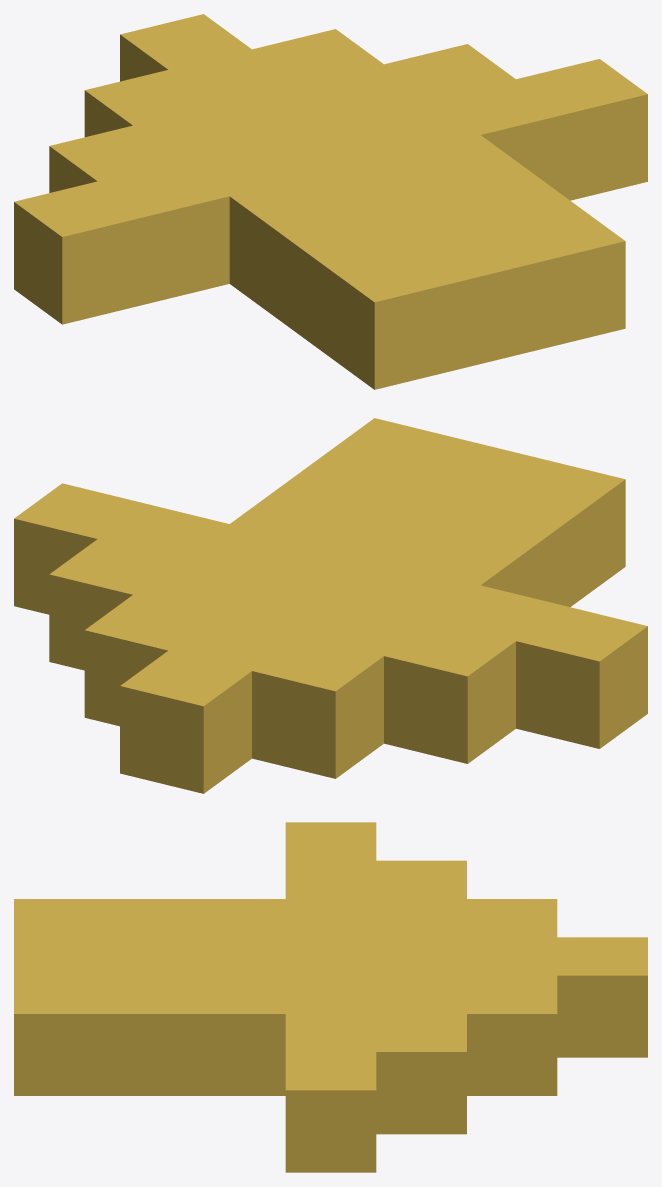
File: ArrowPix.fbx
3 renders of one model, top to bottom at view 1: azimuth 30°, elevation 25°; view 2: azimuth 150°, elevation 25°; view 3: azimuth 270°, elevation 25°, orthographic. The views are drawn at different scales.
Parts seen in each view (by area): view 1: Cube; view 2: Cube; view 3: Cube.
Boxes of the visible parts, x1=… form: Cube: x1=14, y1=14, x2=647, y2=389; Cube: x1=14, y1=418, x2=647, y2=793; Cube: x1=14, y1=822, x2=647, y2=1172.
Bounding box in the file's own units: 140 × 20 × 140.
